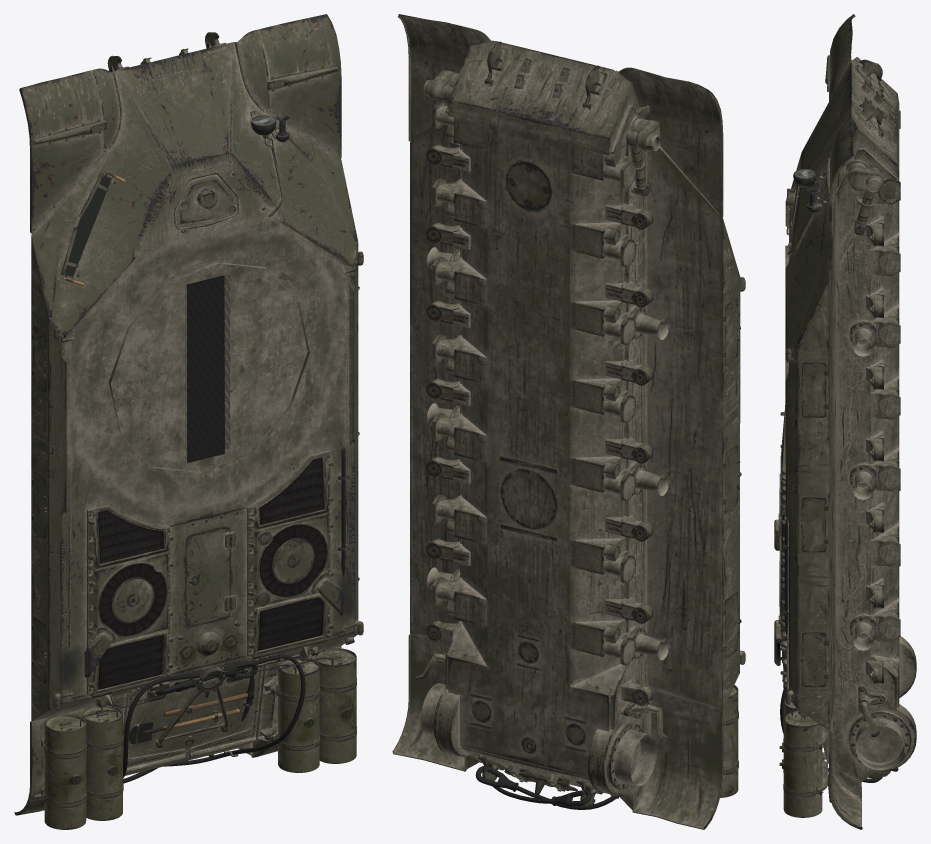
Rendered from Hull.glb.
The picture shows the model from 3 angles, left to right: view 1: azimuth 30°, elevation 25°; view 2: azimuth 150°, elevation 25°; view 3: azimuth 270°, elevation 25°; orthographic projection. The views are drawn at different scales.
Parts seen in each view (by area): view 1: set_0_group_0; view 2: set_0_group_0; view 3: set_0_group_0.
Part boxes in pixels (bbox=[...]): set_0_group_0: bbox=[14, 14, 363, 829]; set_0_group_0: bbox=[392, 14, 745, 829]; set_0_group_0: bbox=[774, 14, 916, 829].
Size of the model in its own units: 3.26 by 7.23 by 1.37.
Materials: 1 (1 with a texture image).
